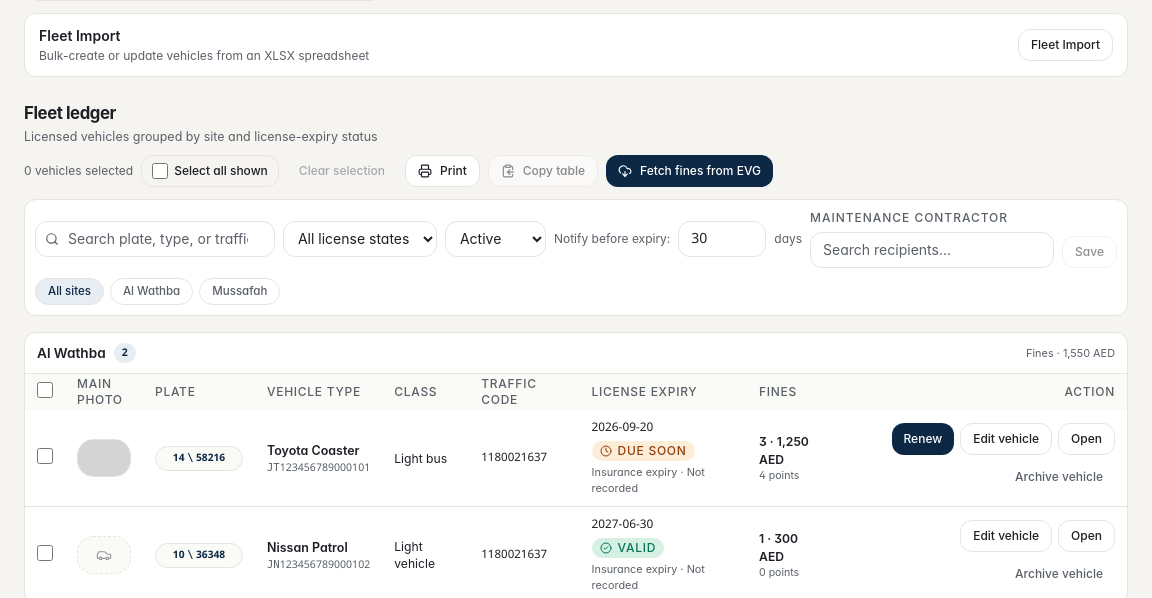
Test: VehiclesHubPage › shows only due and expired vehicles for the attention expiry filter
(page scrolled)
Expected: the text "10 \\ 36348" is shown, [173, 548, 225, 562]
Select "Needs renewal" in the dropdown named "License expiry" at (360, 239), box [283, 221, 437, 257]
(page scrolled)
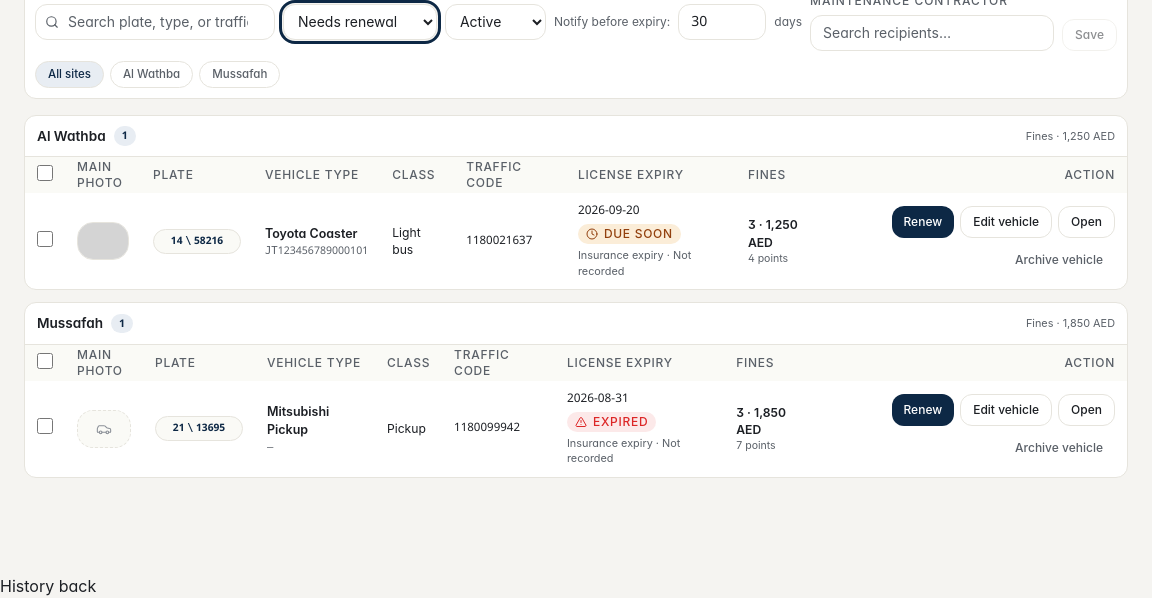
Expected: the text "14 \\ 58216" is shown, [171, 234, 223, 249]
Expected: the text "10 \\ 36348" is gone
